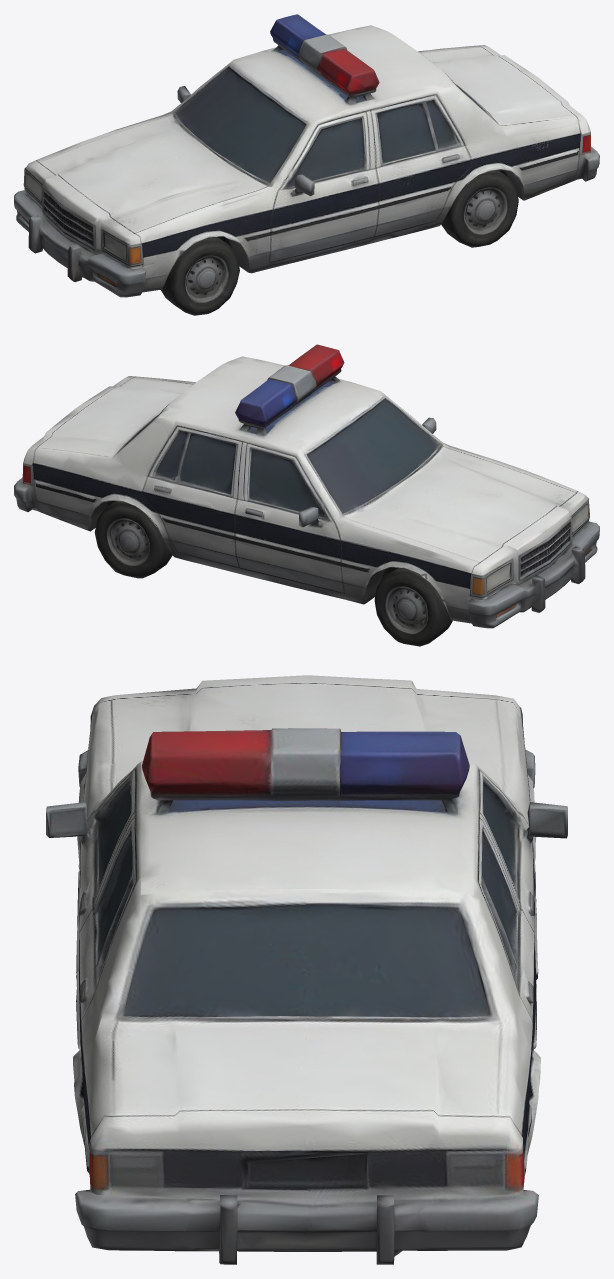
File: car_police.glb
3 views of the same model, one above another, from view 1: azimuth 30°, elevation 25°; view 2: azimuth 150°, elevation 25°; view 3: azimuth 270°, elevation 25° (orthographic). The views are drawn at different scales.
Parts seen in each view (by area): view 1: tripo_node_e02aa779-e65e-45b8-a259-e632f1ecdb0f; view 2: tripo_node_e02aa779-e65e-45b8-a259-e632f1ecdb0f; view 3: tripo_node_e02aa779-e65e-45b8-a259-e632f1ecdb0f.
Boxes of the visible parts, x1,y1,x2,y2 form: tripo_node_e02aa779-e65e-45b8-a259-e632f1ecdb0f: (14, 14, 599, 315); tripo_node_e02aa779-e65e-45b8-a259-e632f1ecdb0f: (14, 344, 599, 646); tripo_node_e02aa779-e65e-45b8-a259-e632f1ecdb0f: (46, 675, 567, 1264).
Size of the model in its own units: 1 by 0.3611 by 0.4471.
1 material, 1 textured.
